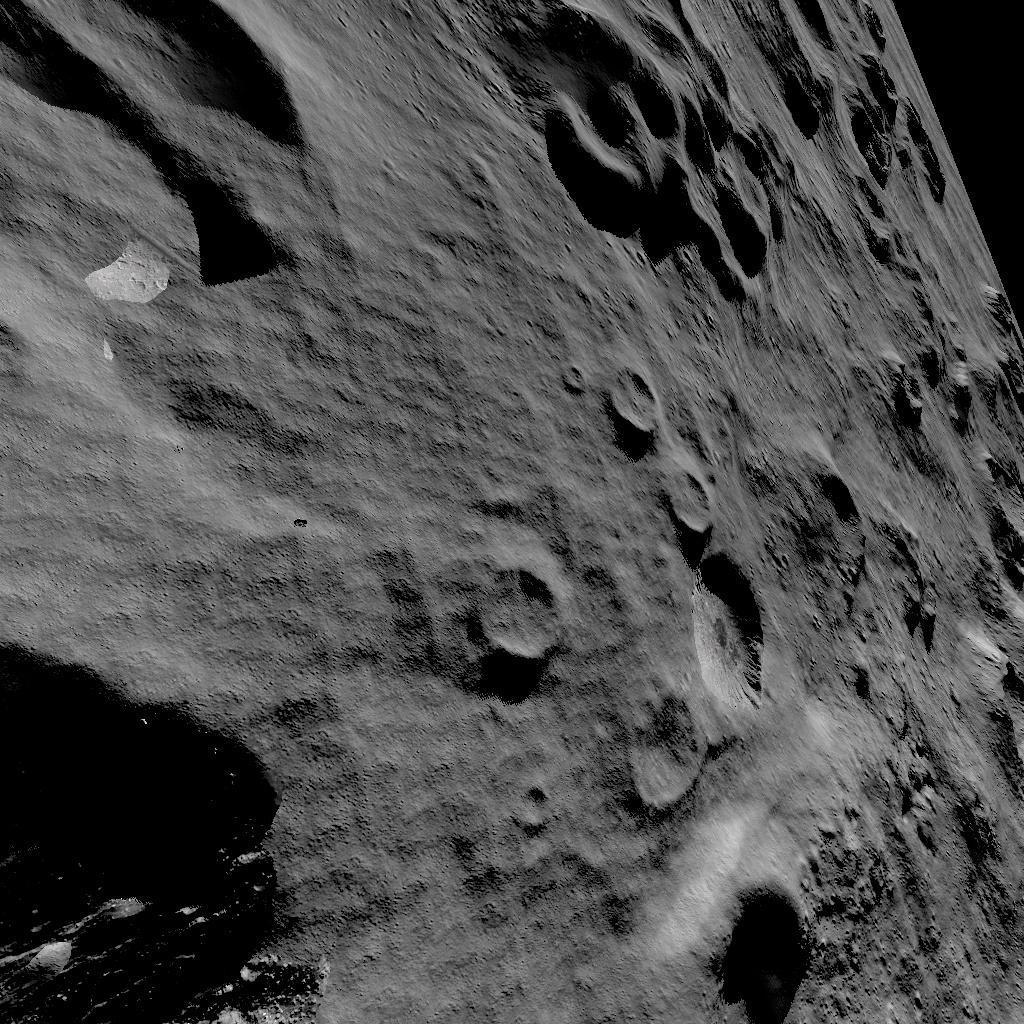Crater: (3, 613, 387, 1024), (1, 0, 355, 321), (520, 0, 914, 286), (647, 554, 778, 822), (899, 296, 1024, 435), (699, 900, 839, 1022), (480, 552, 578, 682), (801, 464, 888, 606), (610, 362, 682, 442), (662, 468, 725, 540)
Plan surface: (3, 328, 442, 578), (405, 724, 636, 1024), (364, 0, 494, 315)
